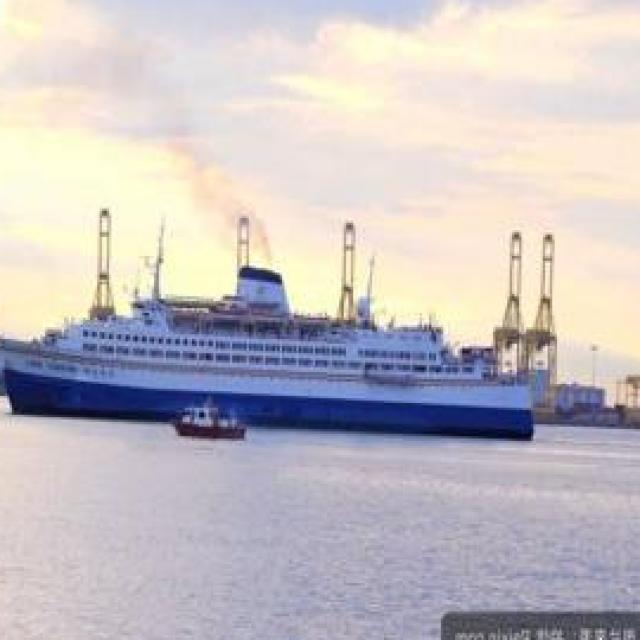houseboat: (172, 392, 252, 439)
passenger ship: (8, 261, 540, 428)
